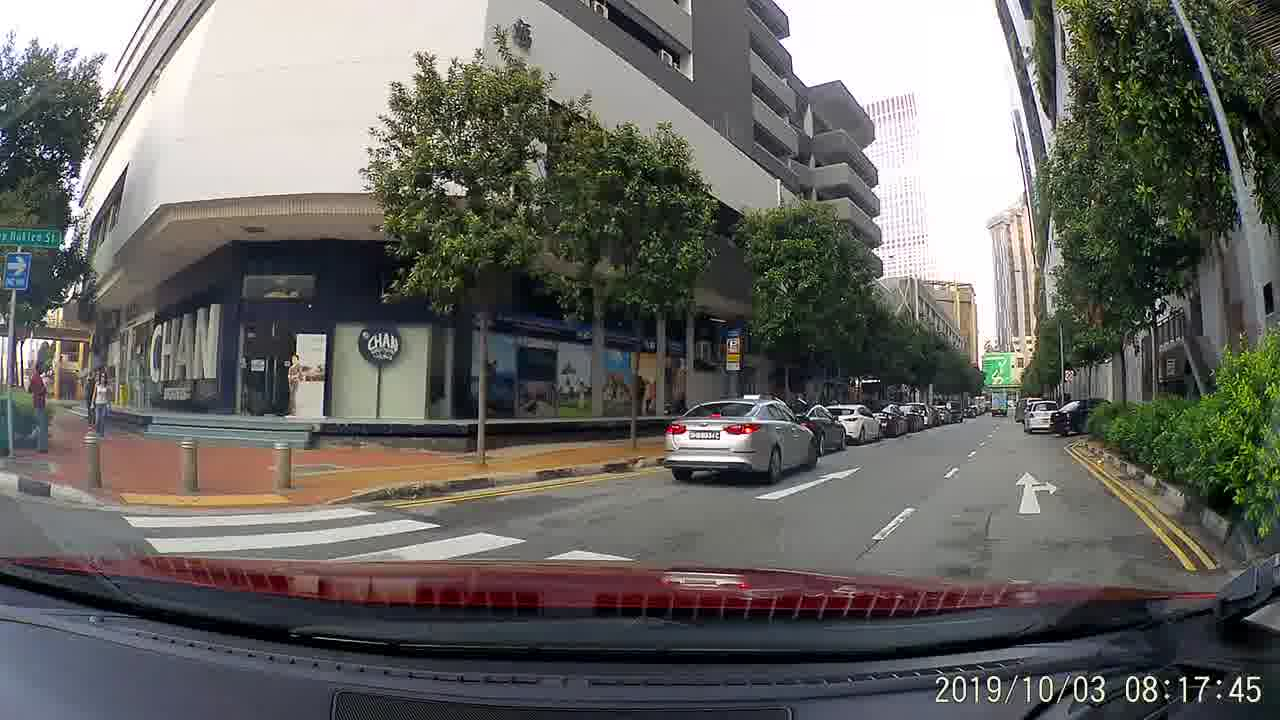car: (659, 390, 819, 487), (784, 400, 847, 453), (1050, 395, 1119, 435), (825, 403, 881, 443), (866, 402, 907, 437), (1024, 398, 1062, 432), (898, 401, 924, 429)
